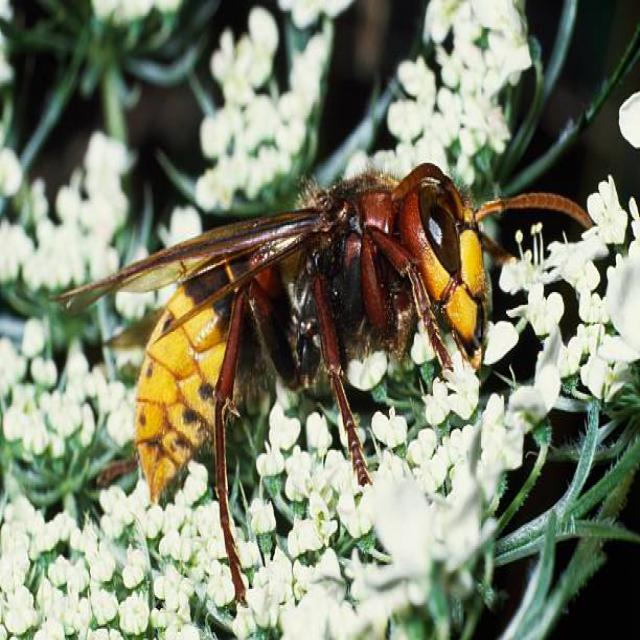Vespa Crabro: (36, 120, 608, 618)
